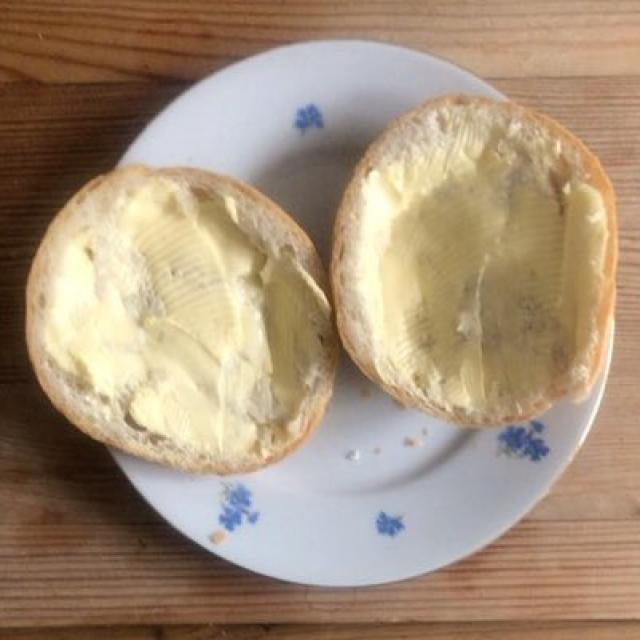bread: (36, 116, 596, 474)
butter: (44, 144, 593, 449)
